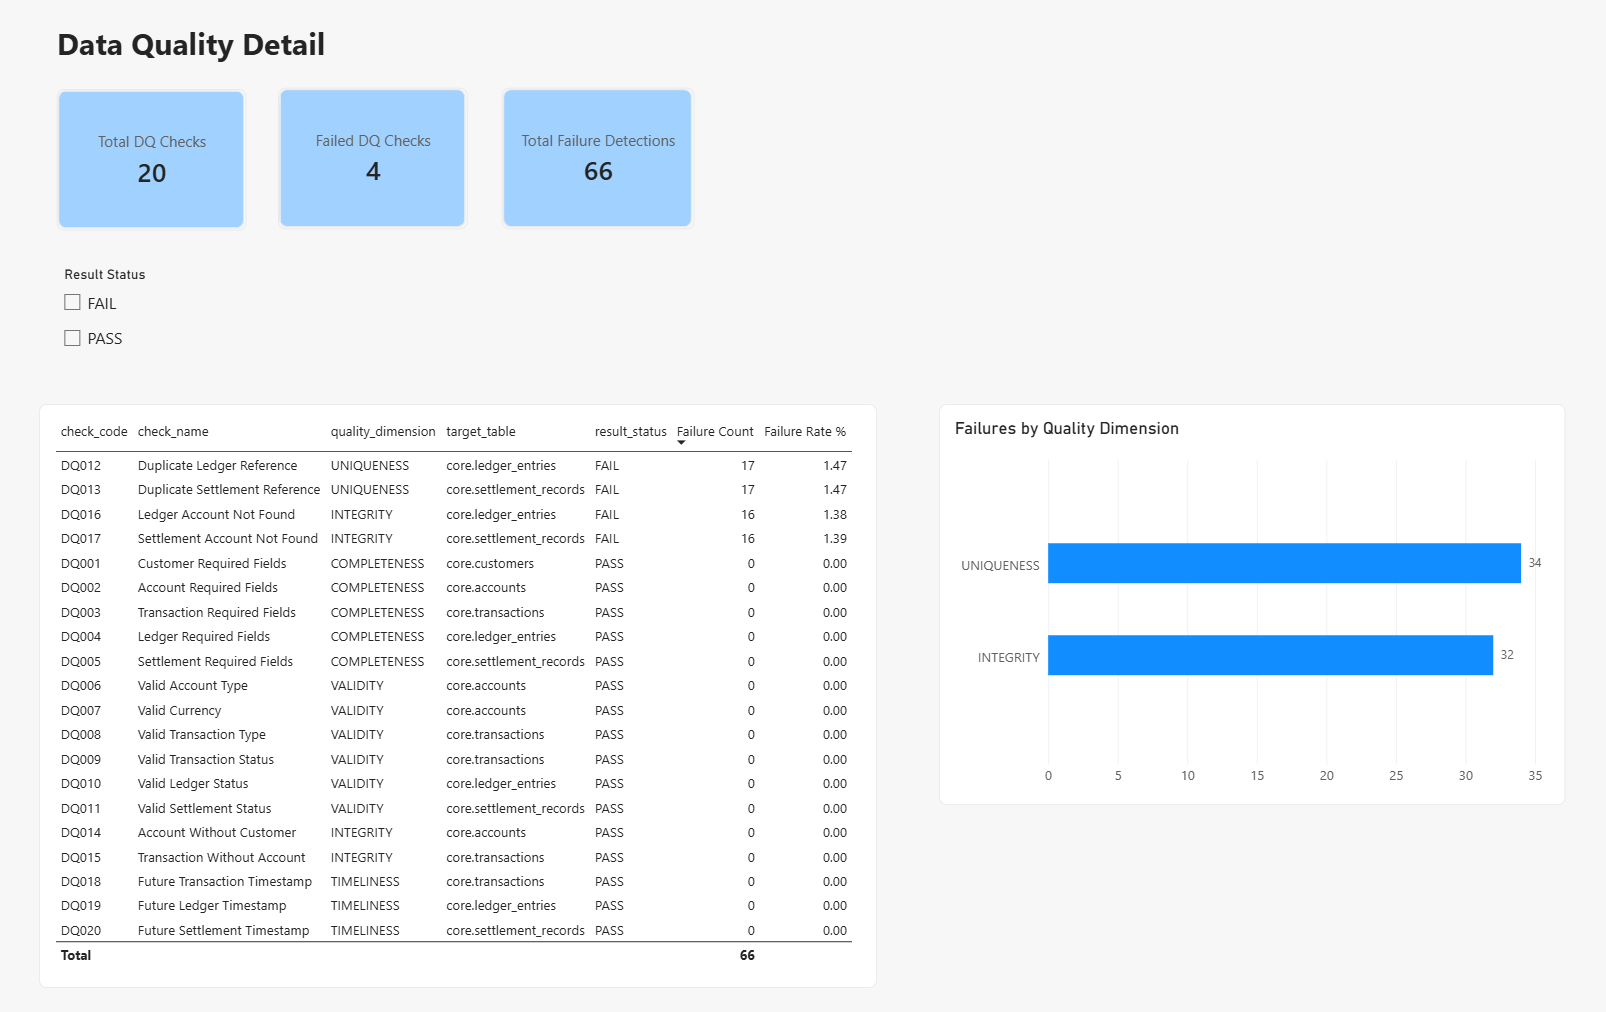

The page's visual inventory and layout, read from the dashboard file:
{"tool":"powerbi","page":{"name":"Data Quality Detail","canvas":[1920,1080],"ordinal":2},"visuals":[{"type":"textbox","box":[62.5,25.2,303,57.1],"z":0},{"type":"tableEx","fields":{"Values":["DQ Current.check_code","DQ Current.check_name","DQ Current.quality_dimension","DQ Current.target_table","DQ Current.result_status","Sum(DQ Current.failure_count)","DQ Current.failure_rate_percent"]},"box":[43.9,430.6,890.4,620.6],"z":1000},{"type":"slicer","fields":{"Values":["DQ Current.result_status"]},"box":[62.5,284.4,136.9,107.6],"z":2000},{"type":"clusteredBarChart","title":"Failures by Quality Dimension","fields":{"Category":["DQ Current.quality_dimension"],"Y":["Sum(DQ Current.failure_count)"]},"box":[1000.7,430.6,665.8,426.6],"z":3000},{"type":"cardVisual","fields":{"Data":["DQ Current.Total DQ Checks"]},"box":[62.5,95.7,202,150.2],"z":4000},{"type":"cardVisual","fields":{"Data":["DQ Current.Failed DQ Checks"]},"box":[297.7,94.4,202,150.2],"z":5000},{"type":"cardVisual","fields":{"Data":["DQ Current.Total Failure Detections"]},"box":[535.5,94.4,204.7,150.2],"z":6000}]}

Visuals, with their boxes on the page's 1920x1080 design canvas (x1, y1, x2, y2). These are canvas units, not pixel positions in the 1606x1012 screenshot, which may show the page scaled, cropped or inside an application window:
textbox: x1=62, y1=25, x2=366, y2=82
tableEx - DQ Current.check_code x DQ Current.check_name: x1=44, y1=431, x2=934, y2=1051
slicer - DQ Current.result_status: x1=62, y1=284, x2=199, y2=392
"Failures by Quality Dimension" clusteredBarChart: x1=1001, y1=431, x2=1666, y2=857
cardVisual - DQ Current.Total DQ Checks: x1=62, y1=96, x2=264, y2=246
cardVisual - DQ Current.Failed DQ Checks: x1=298, y1=94, x2=500, y2=245
cardVisual - DQ Current.Total Failure Detections: x1=536, y1=94, x2=740, y2=245
